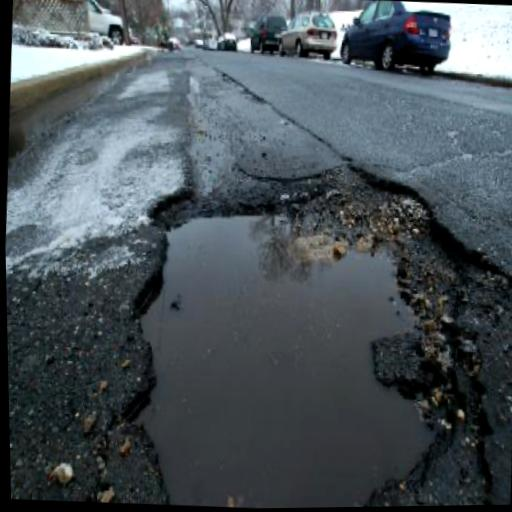pothole: (107, 144, 512, 510)
